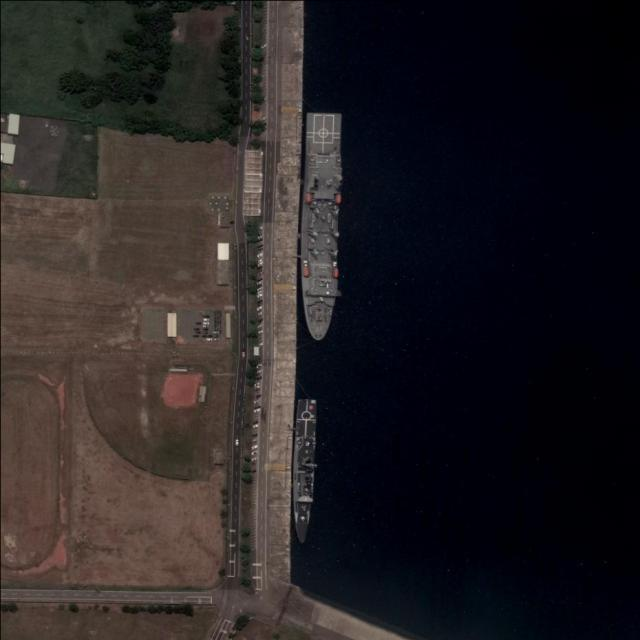Commander: (300, 110, 344, 340)
Frigate: (292, 397, 317, 544)
